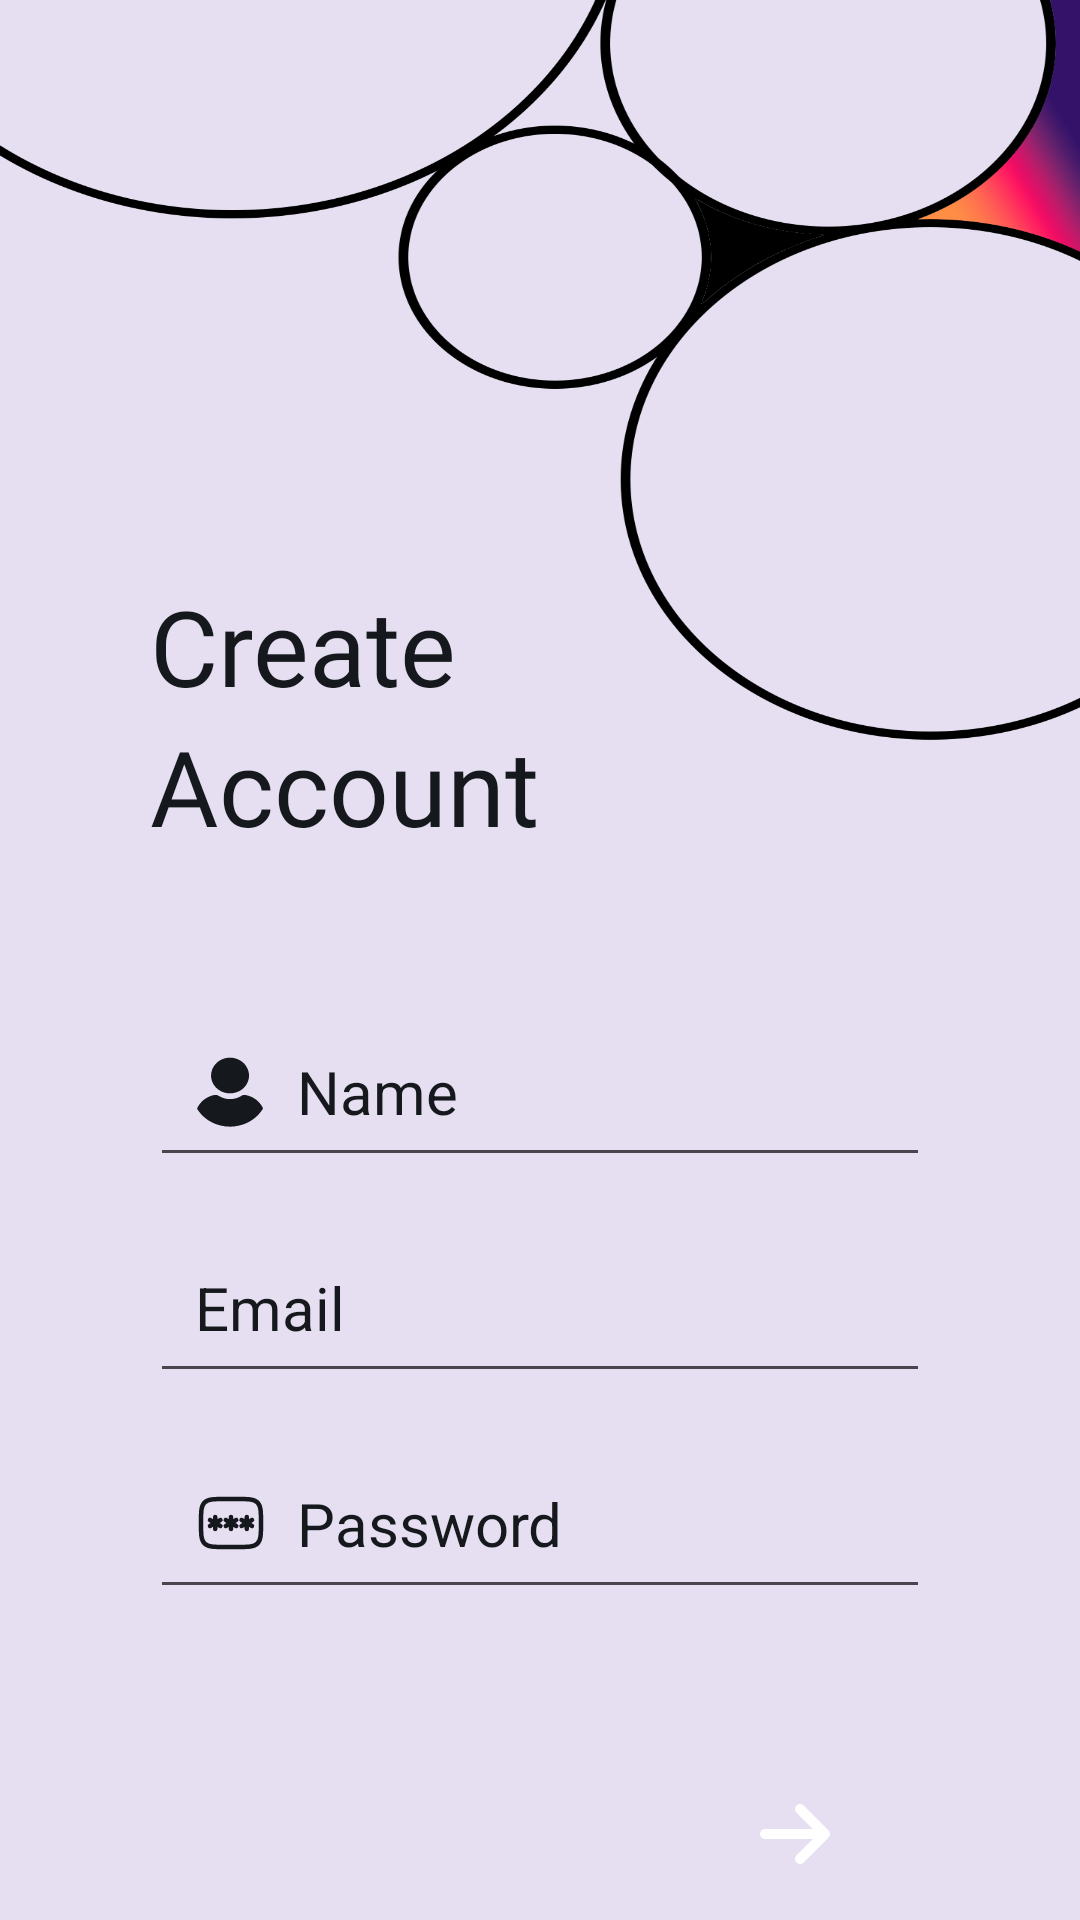

Point at icon controls on the screen. Image size 1080px×1920px, points as [x,y].
arrow sm right: [795,1834]
